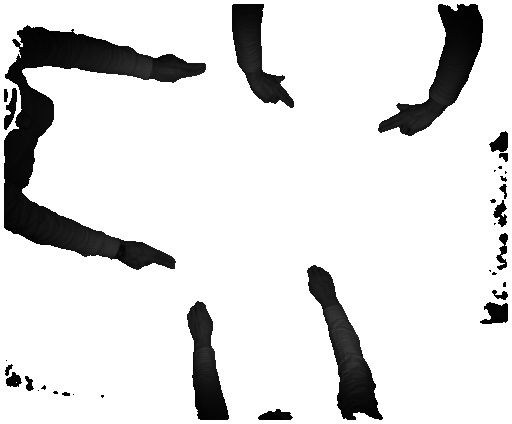hand: (124, 232, 175, 271), (376, 101, 432, 135), (156, 51, 207, 87), (249, 72, 295, 111), (304, 264, 338, 305), (187, 296, 215, 344)
